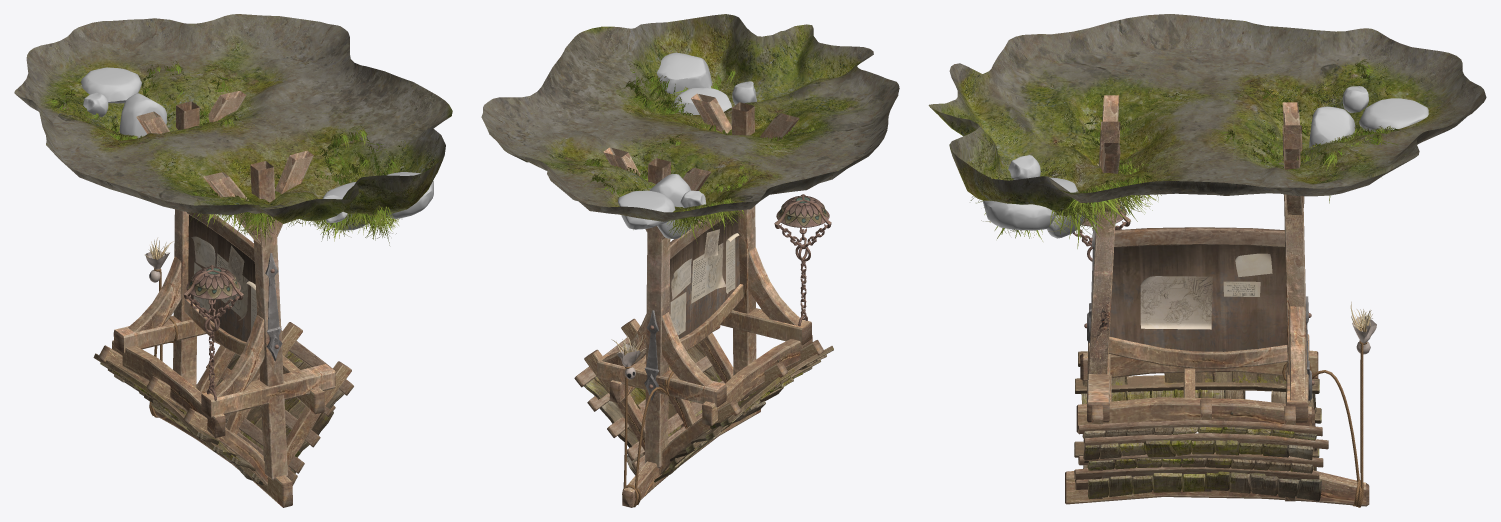
3 views of the same model, side by side, from view 1: azimuth 30°, elevation 25°; view 2: azimuth 150°, elevation 25°; view 3: azimuth 270°, elevation 25° (orthographic). The views are drawn at different scales.
Visible parts, largest first — view 1: patch_low, notice_board, campfire.006, notice_board.001, Plane.018, Plane.017, Plane.022, Plane.010, Plane.013; view 2: patch_low, notice_board, campfire.006, notice_board.001, Plane.018, Plane.013, Plane.010; view 3: patch_low, notice_board, campfire.006, notice_board.001, Plane.018, Plane.010, Plane.016.
Part boxes in pixels (box(x1,y1,x2,y2)): patch_low: box(14, 14, 452, 223); notice_board: box(93, 91, 353, 507); campfire.006: box(81, 67, 433, 230); notice_board.001: box(149, 253, 282, 417); Plane.018: box(314, 125, 406, 185); Plane.017: box(310, 205, 398, 245); Plane.022: box(190, 187, 282, 244); Plane.010: box(141, 60, 234, 124); Plane.013: box(44, 89, 121, 134); patch_low: box(481, 14, 899, 221); notice_board: box(574, 93, 833, 507); campfire.006: box(618, 52, 756, 239); notice_board.001: box(622, 194, 831, 507); Plane.018: box(617, 63, 691, 116); Plane.013: box(667, 198, 743, 243); Plane.010: box(583, 158, 653, 196); patch_low: box(928, 14, 1486, 215); notice_board: box(1065, 95, 1376, 506); campfire.006: box(983, 86, 1428, 238); notice_board.001: box(1073, 200, 1367, 507); Plane.018: box(1048, 174, 1161, 248); Plane.010: box(1282, 126, 1403, 203); Plane.016: box(1212, 129, 1283, 165).
Bounding box in the file's own units: 444 × 454 × 556.
